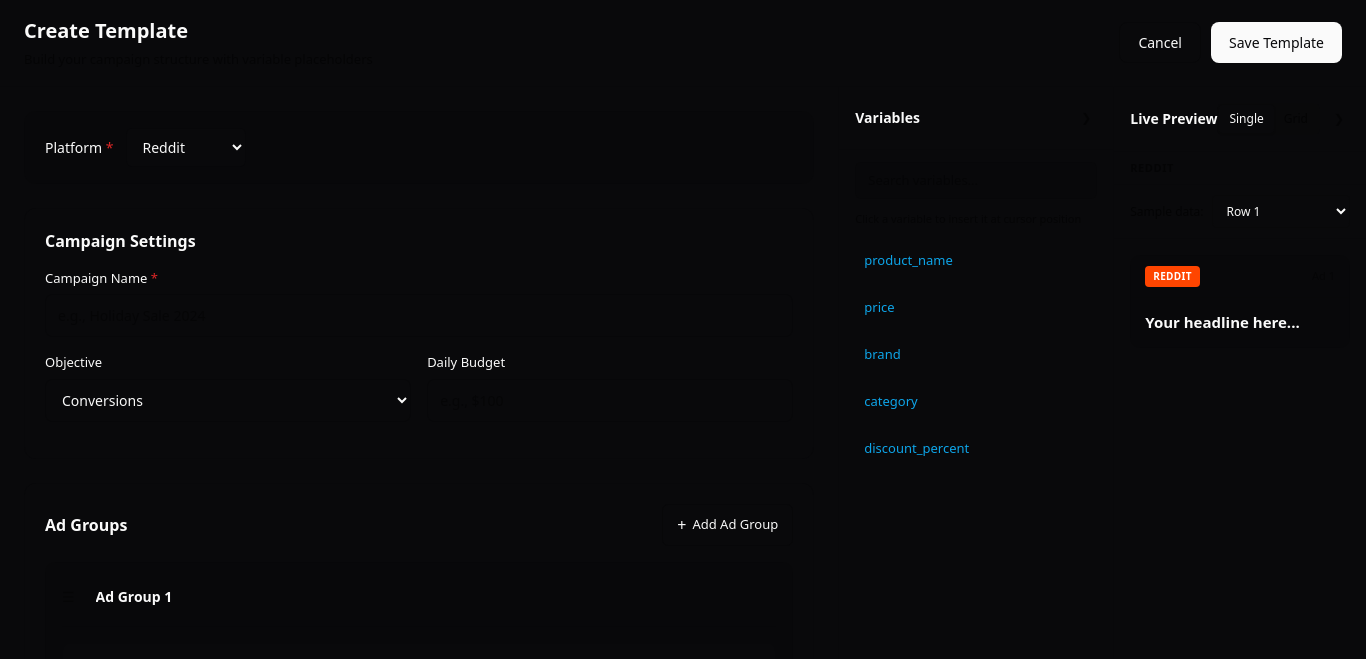
TemplateEditorV2 › Campaign Structure Builder › adds new ad group when button clicked
Click the button "+ Add Ad Group" at x=728, y=524, box [662,504,793,546]
(page scrolled)
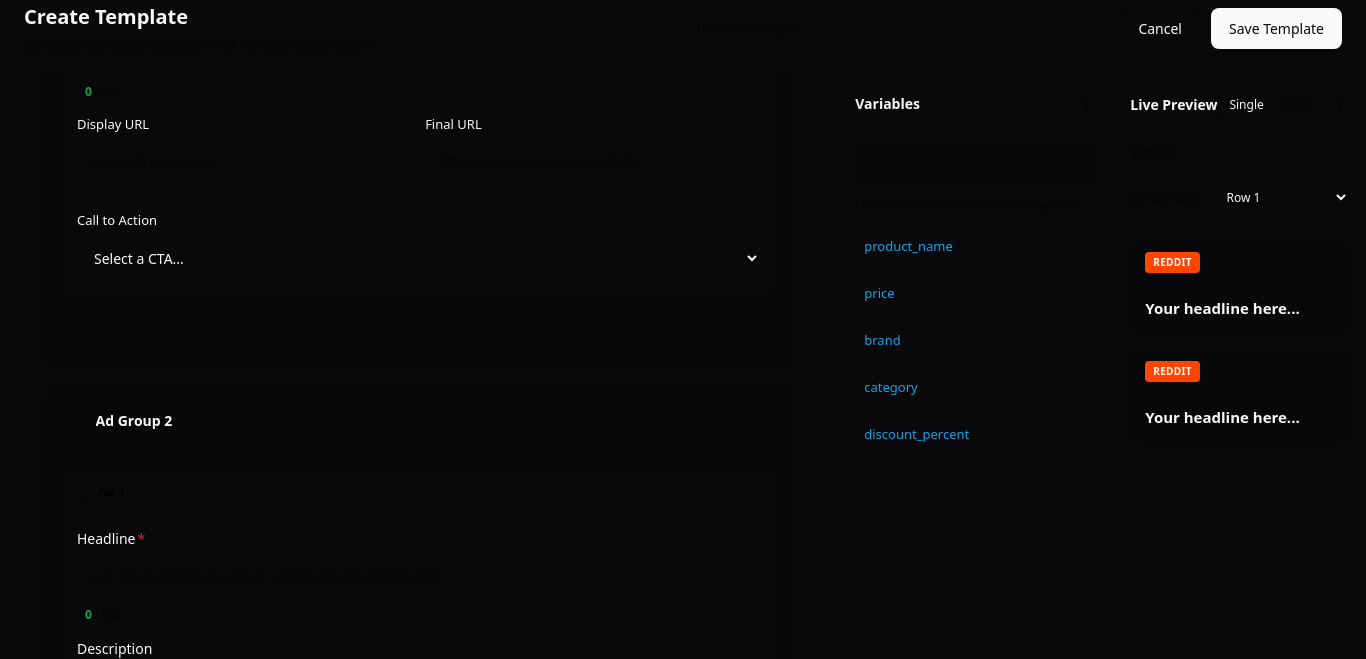
expect the field showing "Ad Group 2" is shown: met, box [85,402,738,438]
